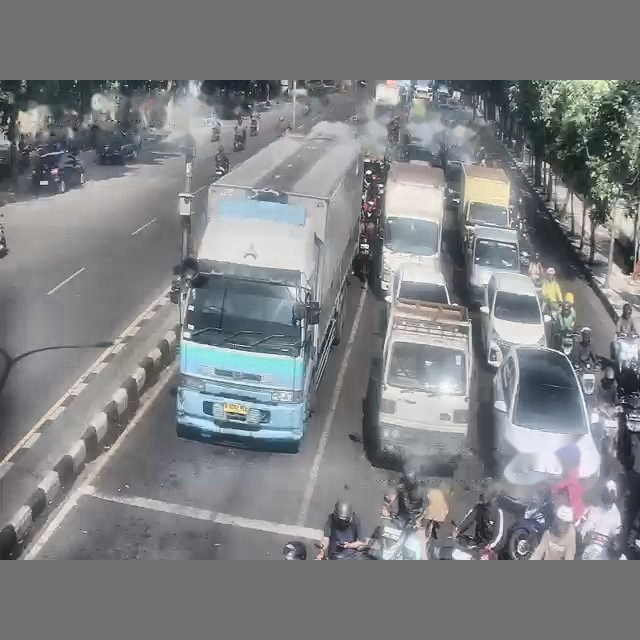Mobil: (493, 346, 600, 485), (480, 272, 550, 367), (385, 262, 450, 320), (32, 151, 84, 192), (96, 131, 140, 163)
Motor: (507, 492, 553, 559), (574, 362, 598, 395), (553, 330, 576, 356), (0, 214, 7, 256), (213, 164, 227, 181), (233, 136, 245, 151), (211, 127, 220, 142), (249, 121, 258, 136)
Truk: (176, 122, 362, 451), (363, 300, 472, 465), (379, 162, 445, 291), (459, 163, 512, 245)
